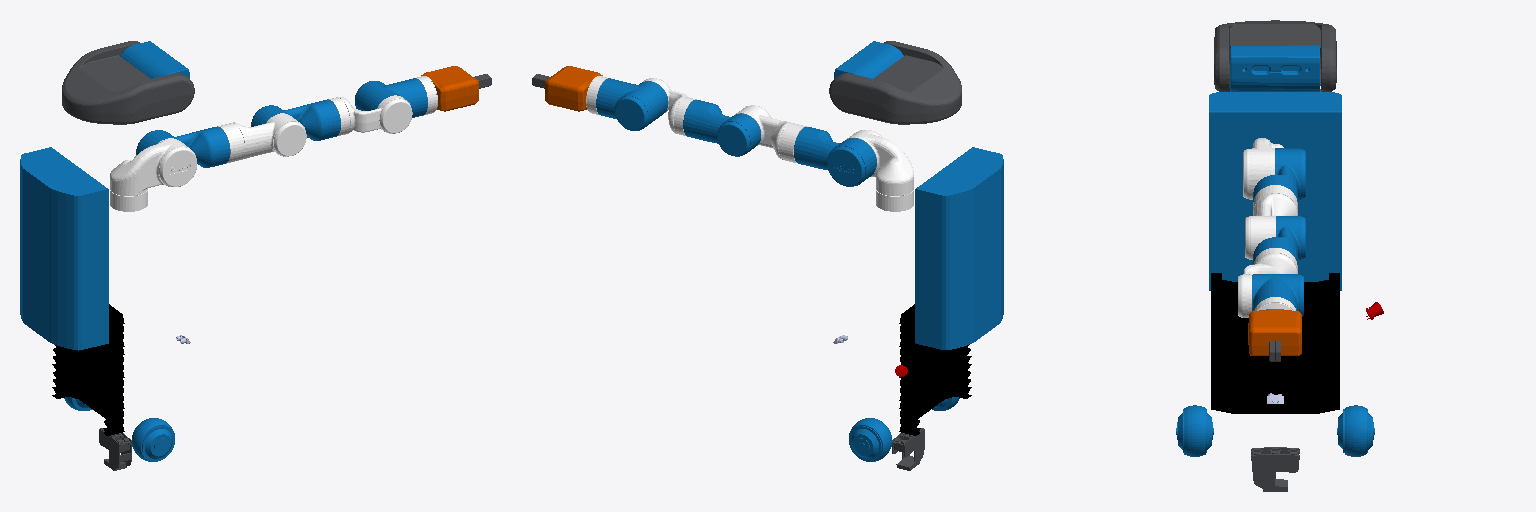
The robot description file, URDF, robot "fetch":
<robot name="fetch">
  <link name="base_link">
    <inertial>
      <origin rpy="0 0 0" xyz="-0.0036 0.0 0.0014" />
      <mass value="70.1294" />
      <inertia ixx="1.225" ixy="0.0099" ixz="0.0062" iyy="1.2853" iyz="-0.0034" izz="0.987" />
    </inertial>
    <visual>
      <origin rpy="0 0 0" xyz="0 0 0" />
      <geometry>
        <mesh filename="package://fetch_description/meshes/base_link.obj" />
      </geometry>
      <material name="">
        <color rgba="0.356 0.361 0.376 1" />
      </material>
    </visual>
    <collision>
      <origin rpy="0 0 0" xyz="0 0 0" />
      <geometry>
        <mesh filename="package://fetch_description/meshes/base_link_collision.STL" />
      </geometry>
    </collision>
  </link>
  <link name="r_wheel_link">
    <inertial>
      <origin rpy="0 0 0" xyz="0 0 0" />
      <mass value="4.3542" />
      <inertia ixx="0.0045" ixy="0" ixz="0" iyy="0.005" iyz="0" izz="0.0045" />
    </inertial>
    <visual>
      <origin rpy="0 0 0" xyz="0 0 0" />
      <geometry>
        <mesh filename="package://fetch_description/meshes/r_wheel_link.obj" />
      </geometry>
      <material name="">
        <color rgba="0.086 0.506 0.767 1" />
      </material>
    </visual>
    <collision>
      <origin rpy="0 0 0" xyz="0 0 0" />
      <geometry>
        <mesh filename="package://fetch_description/meshes/r_wheel_link_collision.STL" />
      </geometry>
    </collision>
  </link>
  <joint name="r_wheel_joint" type="continuous">
    <origin rpy="-6.123E-17 0 0" xyz="0.0012914 -0.18738 0.055325" />
    <parent link="base_link" />
    <child link="r_wheel_link" />
    <axis xyz="0 1 0" />
  <limit effort="8.85" velocity="17.4" /></joint>
  <link name="l_wheel_link">
    <inertial>
      <origin rpy="0 0 0" xyz="0 0 0" />
      <mass value="4.3542" />
      <inertia ixx="0.0045" ixy="0" ixz="0" iyy="0.005" iyz="0" izz="0.0045" />
    </inertial>
    <visual>
      <origin rpy="0 0 0" xyz="0 0 0" />
      <geometry>
        <mesh filename="package://fetch_description/meshes/l_wheel_link.obj" />
      </geometry>
      <material name="">
        <color rgba="0.086 0.506 0.767 1" />
      </material>
    </visual>
    <collision>
      <origin rpy="0 0 0" xyz="0 0 0" />
      <geometry>
        <mesh filename="package://fetch_description/meshes/l_wheel_link_collision.STL" />
      </geometry>
    </collision>
  </link>
  <joint name="l_wheel_joint" type="continuous">
    <origin rpy="-6.123E-17 0 0" xyz="0.0012914 0.18738 0.055325" />
    <parent link="base_link" />
    <child link="l_wheel_link" />
    <axis xyz="0 1 0" />
  <limit effort="8.85" velocity="17.4" /></joint>
  <link name="torso_lift_link">
    <inertial>
      <origin rpy="0 0 0" xyz="-0.0013 -0.0009 0.2935" />
      <mass value="10.7796" />
      <inertia ixx="10.3354" ixy="0.0" ixz="-0.0162" iyy="10.3354" iyz="-0.0006" izz="0.0954" />
    </inertial>
    <visual>
      <origin rpy="0 0 0" xyz="0 0 0" />
      <geometry>
        <mesh filename="package://fetch_description/meshes/torso_lift_link.obj" />
      </geometry>
      <material name="">
        <color rgba="1 1 1 1" />
      </material>
    </visual>
    <collision>
      <origin rpy="0 0 0" xyz="0 0 0" />
      <geometry>
        <mesh filename="package://fetch_description/meshes/torso_lift_link_collision.STL" />
      </geometry>
    </collision>
  </link>
  <joint name="torso_lift_joint" type="fixed">
    <origin rpy="-6.123E-17 0 0" xyz="-0.086875 0 0.37743" />
    <parent link="base_link" />
    <child link="torso_lift_link" />
  </joint>
  <link name="head_pan_link">
    <inertial>
      <origin rpy="0 0 0" xyz="0.0321 0.0161 0.0390" />
      <mass value="2.2556" />
      <inertia ixx="0.0129" ixy="0.0002" ixz="0.0007" iyy="0.0095" iyz="-0.0" izz="0.0184" />
    </inertial>
    <visual>
      <origin rpy="0 0 0" xyz="0 0 0" />
      <geometry>
        <mesh filename="package://fetch_description/meshes/head_pan_link.obj" />
      </geometry>
      <material name="">
        <color rgba="0.356 0.361 0.376 1" />
      </material>
    </visual>
    <collision>
      <origin rpy="0 0 0" xyz="0 0 0" />
      <geometry>
        <mesh filename="package://fetch_description/meshes/head_pan_link_collision.STL" />
      </geometry>
    </collision>
  </link>
  <joint name="head_pan_joint" type="revolute">
    <origin rpy="0 0 0" xyz="0.053125 0 0.603001417713939" />
    <parent link="torso_lift_link" />
    <child link="head_pan_link" />
    <axis xyz="0 0 1" />
  <limit effort="0.32" lower="-1.57" upper="1.57" velocity="1.57" /></joint>
  <link name="head_tilt_link">
    <inertial>
      <origin rpy="0 0 0" xyz="0.0081 0.0025 0.0113" />
      <mass value="0.9087" />
      <inertia ixx="0.0061" ixy="-0.0" ixz="0.0002" iyy="0.0014" iyz="-0.0001" izz="0.0061" />
    </inertial>
    <visual>
      <origin rpy="0 0 0" xyz="0 0 0" />
      <geometry>
        <mesh filename="package://fetch_description/meshes/head_tilt_link.obj" />
      </geometry>
      <material name="">
        <color rgba="0.086 0.506 0.767 1" />
      </material>
    </visual>
    <collision>
      <origin rpy="0 0 0" xyz="0 0 0" />
      <geometry>
        <mesh filename="package://fetch_description/meshes/head_tilt_link_collision.STL" />
      </geometry>
    </collision>
  </link>
  <joint name="head_tilt_joint" type="revolute">
    <origin rpy="0 0 0" xyz="0.14253 0 0.057999" />
    <parent link="head_pan_link" />
    <child link="head_tilt_link" />
    <axis xyz="0 1 0" />
    <limit effort="0.68" lower="-0.76" upper="1.45" velocity="1.57" />
  </joint>
  <link name="shoulder_pan_link">
    <inertial>
      <origin rpy="0 0 0" xyz="0.0927 -0.0056 0.0564" />
      <mass value="2.5587" />
      <inertia ixx="0.0043" ixy="-0.0001" ixz="0.001" iyy="0.0087" iyz="-0.0001" izz="0.0087" />
    </inertial>
    <visual>
      <origin rpy="0 0 0" xyz="0 0 0" />
      <geometry>
        <mesh filename="package://fetch_description/meshes/shoulder_pan_link.obj" />
      </geometry>
      <material name="">
        <color rgba="1 1 1 1" />
      </material>
    </visual>
    <collision>
      <origin rpy="0 0 0" xyz="0 0 0" />
      <geometry>
        <mesh filename="package://fetch_description/meshes/shoulder_pan_link_collision.STL" />
      </geometry>
    </collision>
  </link>
  <joint name="shoulder_pan_joint" type="revolute">
    <origin rpy="0 0 0" xyz="0.119525 0 0.34858" />
    <parent link="torso_lift_link" />
    <child link="shoulder_pan_link" />
    <axis xyz="0 0 1" />
    <dynamics damping="1.0" />
    <limit effort="33.82" lower="-1.6056" upper="1.6056" velocity="1.256" />
  </joint>
  <link name="shoulder_lift_link">
    <inertial>
      <origin rpy="0 0 0" xyz="0.1432 0.0072 -0.0001" />
      <mass value="2.6615" />
      <inertia ixx="0.0028" ixy="-0.0021" ixz="-0.0" iyy="0.0111" iyz="-0.0" izz="0.0112" />
    </inertial>
    <visual>
      <origin rpy="0 0 0" xyz="0 0 0" />
      <geometry>
        <mesh filename="package://fetch_description/meshes/shoulder_lift_link.obj" />
      </geometry>
      <material name="">
        <color rgba="0.086 0.506 0.767 1" />
      </material>
    </visual>
    <collision>
      <origin rpy="0 0 0" xyz="0 0 0" />
      <geometry>
        <mesh filename="package://fetch_description/meshes/shoulder_lift_link_collision.STL" />
      </geometry>
    </collision>
  </link>
  <joint name="shoulder_lift_joint" type="revolute">
    <origin rpy="0 0 0" xyz="0.117 0 0.0599999999999999" />
    <parent link="shoulder_pan_link" />
    <child link="shoulder_lift_link" />
    <axis xyz="0 1 0" />
    <dynamics damping="1.0" />
    <limit effort="131.76" lower="-1.221" upper="1.518" velocity="1.454" />
  </joint>
  <link name="upperarm_roll_link">
    <inertial>
      <origin rpy="0 0 0" xyz="0.1165 0.0014 0.0000" />
      <mass value="2.3311" />
      <inertia ixx="0.0019" ixy="-0.0001" ixz="0.0" iyy="0.0045" iyz="0.0" izz="0.0047" />
    </inertial>
    <visual>
      <origin rpy="0 0 0" xyz="0 0 0" />
      <geometry>
        <mesh filename="package://fetch_description/meshes/upperarm_roll_link.obj" />
      </geometry>
      <material name="">
        <color rgba="1 1 1 1" />
      </material>
    </visual>
    <collision>
      <origin rpy="0 0 0" xyz="0 0 0" />
      <geometry>
        <mesh filename="package://fetch_description/meshes/upperarm_roll_link_collision.STL" />
      </geometry>
    </collision>
  </link>
  <joint name="upperarm_roll_joint" type="continuous">
    <origin rpy="0 0 0" xyz="0.219 0 0" />
    <parent link="shoulder_lift_link" />
    <child link="upperarm_roll_link" />
    <axis xyz="1 0 0" />
    <dynamics damping="5.0" />
    <limit effort="76.94" velocity="1.571" />
  </joint>
  <link name="elbow_flex_link">
    <inertial>
      <origin rpy="0 0 0" xyz="0.1279 0.0073 0.0000" />
      <mass value="2.1299" />
      <inertia ixx="0.0024" ixy="-0.0016" ixz="0.0" iyy="0.0082" iyz="-0.0" izz="0.0084" />
    </inertial>
    <visual>
      <origin rpy="0 0 0" xyz="0 0 0" />
      <geometry>
        <mesh filename="package://fetch_description/meshes/elbow_flex_link.obj" />
      </geometry>
      <material name="">
        <color rgba="0.086 0.506 0.767 1" />
      </material>
    </visual>
    <collision>
      <origin rpy="0 0 0" xyz="0 0 0" />
      <geometry>
        <mesh filename="package://fetch_description/meshes/elbow_flex_link_collision.STL" />
      </geometry>
    </collision>
  </link>
  <joint name="elbow_flex_joint" type="revolute">
    <origin rpy="0 0 0" xyz="0.133 0 0" />
    <parent link="upperarm_roll_link" />
    <child link="elbow_flex_link" />
    <axis xyz="0 1 0" />
    <dynamics damping="1.0" />
    <limit effort="66.18" lower="-2.251" upper="2.251" velocity="1.521" />
  </joint>
  <link name="forearm_roll_link">
    <inertial>
      <origin rpy="0 0 0" xyz="0.1097 -0.0266 0.0000" />
      <mass value="1.6563" />
      <inertia ixx="0.0016" ixy="-0.0003" ixz="0.0" iyy="0.003" iyz="-0.0" izz="0.0035" />
    </inertial>
    <visual>
      <origin rpy="0 0 0" xyz="0 0 0" />
      <geometry>
        <mesh filename="package://fetch_description/meshes/forearm_roll_link.obj" />
      </geometry>
      <material name="">
        <color rgba="1 1 1 1" />
      </material>
    </visual>
    <collision>
      <origin rpy="0 0 0" xyz="0 0 0" />
      <geometry>
        <mesh filename="package://fetch_description/meshes/forearm_roll_link_collision.STL" />
      </geometry>
    </collision>
  </link>
  <joint name="forearm_roll_joint" type="continuous">
    <origin rpy="0 0 0" xyz="0.197 0 0" />
    <parent link="elbow_flex_link" />
    <child link="forearm_roll_link" />
    <axis xyz="1 0 0" />
    <dynamics damping="5.0" />
    <limit effort="29.35" velocity="1.571" />
  </joint>
  <link name="wrist_flex_link">
    <inertial>
      <origin rpy="0 0 0" xyz="0.0882 0.0009 -0.0001" />
      <mass value="1.725" />
      <inertia ixx="0.0018" ixy="-0.0001" ixz="-0.0" iyy="0.0042" iyz="0.0" izz="0.0042" />
    </inertial>
    <visual>
      <origin rpy="0 0 0" xyz="0 0 0" />
      <geometry>
        <mesh filename="package://fetch_description/meshes/wrist_flex_link.obj" />
      </geometry>
      <material name="">
        <color rgba="0.086 0.506 0.767 1" />
      </material>
    </visual>
    <collision>
      <origin rpy="0 0 0" xyz="0 0 0" />
      <geometry>
        <mesh filename="package://fetch_description/meshes/wrist_flex_link_collision.STL" />
      </geometry>
    </collision>
  </link>
  <joint name="wrist_flex_joint" type="revolute">
    <origin rpy="0 0 0" xyz="0.1245 0 0" />
    <parent link="forearm_roll_link" />
    <child link="wrist_flex_link" />
    <axis xyz="0 1 0" />
    <dynamics damping="1.0" />
    <limit effort="25.7" lower="-2.16" upper="2.16" velocity="2.268" />
  </joint>
  <link name="wrist_roll_link">
    <inertial>
      <origin rpy="0 0 0" xyz="0.0095 0.0004 -0.0002" />
      <mass value="0.1354" />
      <inertia ixx="0.0001" ixy="0.0" ixz="0.0" iyy="0.0001" iyz="0.0" izz="0.0001" />
    </inertial>
    <visual>
      <origin rpy="0 0 0" xyz="0 0 0" />
      <geometry>
        <mesh filename="package://fetch_description/meshes/wrist_roll_link.obj" />
      </geometry>
      <material name="">
        <color rgba="1 1 1 1" />
      </material>
    </visual>
    <collision>
      <origin rpy="0 0 0" xyz="0 0 0" />
      <geometry>
        <mesh filename="package://fetch_description/meshes/wrist_roll_link_collision.STL" />
      </geometry>
    </collision>
  </link>
  <joint name="wrist_roll_joint" type="continuous">
    <origin rpy="0 0 0" xyz="0.1385 0 0" />
    <parent link="wrist_flex_link" />
    <child link="wrist_roll_link" />
    <axis xyz="1 0 0" />
    <limit effort="7.36" velocity="2.268" />
    <dynamics damping="5.0" />
  </joint>
  <link name="gripper_link">
    <inertial>
      <origin rpy="0 0 0" xyz="-0.0900 -0.0001 -0.0017" />
      <mass value="1.5175" />
      <inertia ixx="0.0013" ixy="-0.0" ixz="0.0" iyy="0.0019" iyz="-0.0" izz="0.0024" />
    </inertial>
    <visual>
      <origin rpy="0 0 0" xyz="0 0 0" />
      <geometry>
        <mesh filename="package://fetch_description/meshes/gripper_link.obj" />
      </geometry>
    </visual>
    <collision>
      <origin rpy="0 0 0" xyz="0 0 0" />
      <geometry>
        <mesh filename="package://fetch_description/meshes/gripper_link_collision.STL" />
      </geometry>
    </collision>
  </link>
  <joint name="gripper_axis" type="fixed">
    <origin rpy="0 0 0" xyz="0.16645 0 0" />
    <parent link="wrist_roll_link" />
    <child link="gripper_link" />
    <axis xyz="0 1 0" />
  </joint>
  <link name="r_gripper_finger_link">
    <inertial>
      <origin rpy="0 0 0" xyz="-0.01 0 0" />
      <mass value="0.0798" />
      <inertia ixx="0.002" ixy="0" ixz="0" iyy="0" iyz="0" izz="0" />
    </inertial>
    <visual>
      <origin rpy="0 0 0" xyz="0 0.101425 0" />
      <geometry>
        <mesh filename="package://fetch_description/meshes/r_gripper_finger_link.obj" />
      </geometry>
      <material name="">
        <color rgba="0.356 0.361 0.376 1" />
      </material>
    </visual>
    <collision>
      <origin rpy="0 0 0" xyz="0 0.101425 0" />
      <geometry>
        <mesh filename="package://fetch_description/meshes/r_gripper_finger_link.STL" />
      </geometry>
    </collision>
  </link>
  <joint name="r_gripper_finger_joint" type="prismatic">
    <origin rpy="0 0 0" xyz="0 0.015425 0" />
    <parent link="gripper_link" />
    <child link="r_gripper_finger_link" />
    <axis xyz="0 1 0" />
  <limit effort="60" lower="0.0" upper="0.05" velocity="0.05" /><dynamics damping="100.0" /></joint>
  <link name="l_gripper_finger_link">
    <inertial>
      <origin rpy="0 0 0" xyz="-0.01 0 0" />
      <mass value="0.0798" />
      <inertia ixx="0.002" ixy="0" ixz="0" iyy="0" iyz="0" izz="0" />
    </inertial>
    <visual>
      <origin rpy="0 0 0" xyz="0 -0.101425 0" />
      <geometry>
        <mesh filename="package://fetch_description/meshes/l_gripper_finger_link.obj" />
      </geometry>
      <material name="">
        <color rgba="0.356 0.361 0.376 1" />
      </material>
    </visual>
    <collision>
      <origin rpy="0 0 0" xyz="0 -0.101425 0" />
      <geometry>
        <mesh filename="package://fetch_description/meshes/l_gripper_finger_link.STL" />
      </geometry>
    </collision>
  </link>
  <joint name="l_gripper_finger_joint" type="prismatic">
    <origin rpy="0 0 0" xyz="0 -0.015425 0" />
    <parent link="gripper_link" />
    <child link="l_gripper_finger_link" />
    <axis xyz="0 -1 0" />
  <limit effort="60" lower="0.0" upper="0.05" velocity="0.05" /><dynamics damping="100.0" /></joint>
  <link name="bellows_link">
    <inertial>
      <origin rpy="0 0 0" xyz="0.0191320000286228 -1.67219873481315E-16 -0.134861625443387" />
      <mass value="0.169374038216602" />
      <inertia ixx="0.00331159128762117" ixy="-8.9230964321455E-18" ixz="-5.38622201018293E-08" iyy="0.00174447292786627" iyz="-8.06964979976371E-17" izz="0.00169417568121457" />
    </inertial>
    <visual>
      <origin rpy="0 0 0" xyz="0 0 0" />
      <geometry>
        <mesh filename="package://fetch_description/meshes/bellows_link.obj" />
      </geometry>
      <material name="">
        <color rgba="0 0 0 1" />
      </material>
    </visual>
    <collision>
      <origin rpy="0 0 0" xyz="0 0 0" />
      <geometry>
        <mesh filename="package://fetch_description/meshes/bellows_link_collision.STL" />
      </geometry>
    </collision>
  </link>
  <joint name="bellows_joint" type="prismatic">
    <origin rpy="0 0 0" xyz="0 0 0" />
    <parent link="torso_lift_link" />
    <child link="bellows_link" />
    <axis xyz="0 0 -1" />
  <limit effort="5.0" lower="0" upper="0.4" velocity="0.1" /></joint>
  <link name="bellows_link2">
    <inertial>
      <origin rpy="0 0 0" xyz="0.0191320000286228 -1.67219873481315E-16 -0.134861625443387" />
      <mass value="0.169374038216602" />
      <inertia ixx="0.00331159128762117" ixy="-8.9230964321455E-18" ixz="-5.38622201018293E-08" iyy="0.00174447292786627" iyz="-8.06964979976371E-17" izz="0.00169417568121457" />
    </inertial>
    <visual>
      <origin rpy="0 0 0" xyz="0 0 0" />
      <geometry>
        <mesh filename="package://fetch_description/meshes/bellows_link.obj" />
      </geometry>
      <material name="">
        <color rgba="0 0 0 1" />
      </material>
    </visual>
    <collision>
      <origin rpy="0 0 0" xyz="0 0 0" />
      <geometry>
        <mesh filename="package://fetch_description/meshes/bellows_link_collision.STL" />
      </geometry>
    </collision>
  </link>
  <joint name="bellows_joint2" type="fixed">
    <origin rpy="0 0 0" xyz="0 0 0" />
    <parent link="torso_lift_link" />
    <child link="bellows_link2" />
  </joint>
  <link name="estop_link">
    <inertial>
      <origin rpy="0 0 0" xyz="0.002434512737072 -0.00330608315239905 0.00665139196650039" />
      <mass value="0.00196130439134723" />
      <inertia ixx="3.02810026604417E-07" ixy="-1.5862023118056E-08" ixz="3.16561396557437E-08" iyy="2.93322917127605E-07" iyz="-4.28833522751273E-08" izz="2.28513272627183E-07" />
    </inertial>
    <visual>
      <origin rpy="0 0 0" xyz="0 0 0" />
      <geometry>
        <mesh filename="package://fetch_description/meshes/estop_link.obj" />
      </geometry>
      <material name="">
        <color rgba="0.8 0 0 1" />
      </material>
    </visual>
    <collision>
      <origin rpy="0 0 0" xyz="0 0 0" />
      <geometry>
        <mesh filename="package://fetch_description/meshes/estop_link.STL" />
      </geometry>
    </collision>
  </link>
  <joint name="estop_joint" type="fixed">
    <origin rpy="1.5708 0 0" xyz="-0.12465 0.23892 0.31127" />
    <parent link="base_link" />
    <child link="estop_link" />
    <axis xyz="0 0 0" />
  </joint>
  <link name="laser_link">
    <inertial>
      <origin rpy="0 0 0" xyz="-0.0306228970175641 0.0007091682908278 0.0551974119471302" />
      <mass value="0.00833634573995571" />
      <inertia ixx="1.01866461240801E-06" ixy="-5.88447626567756E-08" ixz="7.83857244757914E-08" iyy="5.10039589974707E-07" iyz="-7.12664289617235E-09" izz="1.28270671527309E-06" />
    </inertial>
    <visual>
      <origin rpy="0 0 0" xyz="0 0 0" />
      <geometry>
        <mesh filename="package://fetch_description/meshes/laser_link.obj" />
      </geometry>
      <material name="">
        <color rgba="0.792156862745098 0.819607843137255 0.933333333333333 1" />
      </material>
    </visual>
    <collision>
      <origin rpy="0 0 0" xyz="0 0 0" />
      <geometry>
        <mesh filename="package://fetch_description/meshes/laser_link.STL" />
      </geometry>
    </collision>
  </link>
  <joint name="laser_joint" type="fixed">
    <origin rpy="3.14159265359 0 0" xyz="0.235 0 0.2878" />
    <parent link="base_link" />
    <child link="laser_link" />
    <axis xyz="0 0 0" />
  </joint>
  <link name="torso_fixed_link">
    <inertial>
      <origin rpy="0 0 0" xyz="-0.0722 0.0057 0.2656" />
      <mass value="13.2775" />
      <inertia ixx="0.3861" ixy="0.0015" ixz="-0.0102" iyy="0.3388" iyz="0.0117" izz="0.1018" />
    </inertial>
    <visual>
      <origin rpy="0 0 0" xyz="0 0 0" />
      <geometry>
        <mesh filename="package://fetch_description/meshes/torso_fixed_link.obj" />
      </geometry>
      <material name="">
        <color rgba="0.086 0.506 0.767 1" />
      </material>
    </visual>
    <collision>
      <origin rpy="0 0 0" xyz="0 0 0" />
      <geometry>
        <mesh filename="package://fetch_description/meshes/torso_fixed_link_collision.STL" />
      </geometry>
    </collision>
  </link>
  <joint name="torso_fixed_joint" type="fixed">
    <origin rpy="-6.12303176911189E-17 0 0" xyz="-0.086875 0 0.377425" />
    <parent link="base_link" />
    <child link="torso_fixed_link" />
    <axis xyz="0 1 0" />
  </joint>
  <link name="head_camera_link" />
  <joint name="head_camera_joint" type="fixed">
    <origin rpy="0 0 0" xyz="0.055 0 0.0225" />
    <parent link="head_tilt_link" />
    <child link="head_camera_link" />
  </joint>
  <link name="head_camera_rgb_frame" />
  <joint name="head_camera_rgb_joint" type="fixed">
    <origin rpy="0 0 0" xyz="0 0.02 0" />
    <parent link="head_camera_link" />
    <child link="head_camera_rgb_frame" />
  </joint>
  <link name="head_camera_rgb_optical_frame" />
  <joint name="head_camera_rgb_optical_joint" type="fixed">
    <origin rpy="-1.57079632679 0 -1.57079632679" xyz="0 0 0" />
    <parent link="head_camera_rgb_frame" />
    <child link="head_camera_rgb_optical_frame" />
  </joint>
  <link name="head_camera_depth_frame" />
  <joint name="head_camera_depth_joint" type="fixed">
    <origin rpy="0 0 0" xyz="0 0.045 0" />
    <parent link="head_camera_link" />
    <child link="head_camera_depth_frame" />
  </joint>
  <link name="head_camera_depth_optical_frame" />
  <joint name="head_camera_depth_optical_joint" type="fixed">
    <origin rpy="-1.57079632679 0 -1.57079632679" xyz="0 0 0" />
    <parent link="head_camera_depth_frame" />
    <child link="head_camera_depth_optical_frame" />
  </joint>
</robot>

--- Facts derived from the render (not from the file) ---
3 views of the same robot in one strip: view 1: azimuth 30°, elevation 25°; view 2: azimuth 150°, elevation 25°; view 3: azimuth 270°, elevation 25° (orthographic).
Model fetch with 26 links and 25 joints (6 revolute, 5 continuous, 3 prismatic, 11 fixed), rooted at base_link, posed every joint at zero.
Links seen in each view (by area): view 1: torso_fixed_link, head_pan_link, bellows_link, shoulder_pan_link, upperarm_roll_link, forearm_roll_link, elbow_flex_link, shoulder_lift_link, gripper_link, wrist_flex_link, r_wheel_link, head_tilt_link (+1 smaller); view 2: torso_fixed_link, head_pan_link, bellows_link, shoulder_lift_link, elbow_flex_link, wrist_flex_link, shoulder_pan_link, gripper_link, upperarm_roll_link, l_wheel_link, head_tilt_link, base_link (+1 smaller); view 3: torso_fixed_link, bellows_link, head_pan_link, head_tilt_link, gripper_link, upperarm_roll_link, base_link, forearm_roll_link, l_wheel_link, shoulder_lift_link, r_wheel_link, wrist_flex_link (+2 smaller).
Boxes of the visible links, x1,y1,x2,y2 form: torso_fixed_link: [20, 147, 108, 350]; head_pan_link: [62, 41, 194, 124]; bellows_link: [52, 304, 124, 435]; shoulder_pan_link: [110, 138, 196, 211]; upperarm_roll_link: [217, 113, 306, 163]; forearm_roll_link: [327, 95, 412, 135]; elbow_flex_link: [251, 100, 340, 140]; shoulder_lift_link: [136, 127, 229, 167]; gripper_link: [421, 66, 478, 111]; wrist_flex_link: [355, 78, 427, 117]; r_wheel_link: [132, 418, 174, 461]; head_tilt_link: [120, 41, 189, 78]; torso_fixed_link: [915, 147, 1003, 349]; head_pan_link: [829, 41, 961, 124]; bellows_link: [899, 304, 971, 435]; shoulder_lift_link: [794, 127, 876, 186]; elbow_flex_link: [683, 100, 760, 156]; wrist_flex_link: [596, 78, 667, 130]; shoulder_pan_link: [846, 130, 913, 211]; gripper_link: [545, 66, 602, 111]; upperarm_roll_link: [735, 105, 806, 162]; l_wheel_link: [849, 418, 891, 461]; head_tilt_link: [834, 41, 903, 78]; base_link: [892, 428, 924, 470]; torso_fixed_link: [1209, 89, 1341, 290]; bellows_link: [1211, 273, 1339, 413]; head_pan_link: [1214, 20, 1336, 91]; head_tilt_link: [1230, 45, 1319, 91]; gripper_link: [1248, 309, 1301, 355]; upperarm_roll_link: [1245, 185, 1297, 259]; base_link: [1251, 447, 1299, 491]; forearm_roll_link: [1238, 248, 1297, 317]; l_wheel_link: [1337, 405, 1374, 456]; shoulder_lift_link: [1253, 148, 1305, 201]; r_wheel_link: [1176, 405, 1213, 456]; wrist_flex_link: [1252, 274, 1303, 316].
Size in the robot's own frame: 1.41 by 0.4855 by 1.19 metres.
20 mesh visuals loaded from 20 distinct referenced files (19 OBJ); not drawn: 1 (reference not matched to a file when rendering).